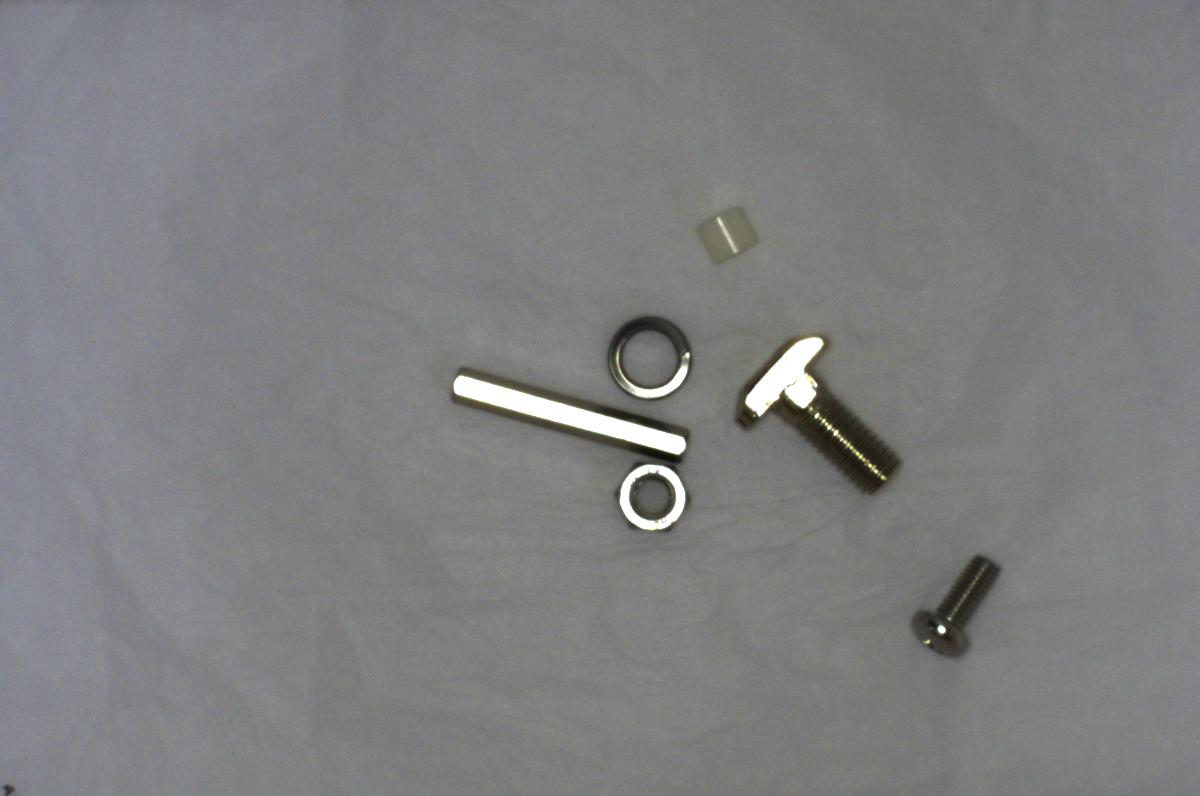Double hexagonal column: (441, 360, 694, 463)
Hexagon nut: (611, 450, 694, 542)
Plastic cushion pillar: (683, 201, 765, 269)
Round head screw: (901, 535, 1008, 665)
Spring washer: (600, 306, 700, 408)
T-shaped screw: (723, 323, 908, 504)
